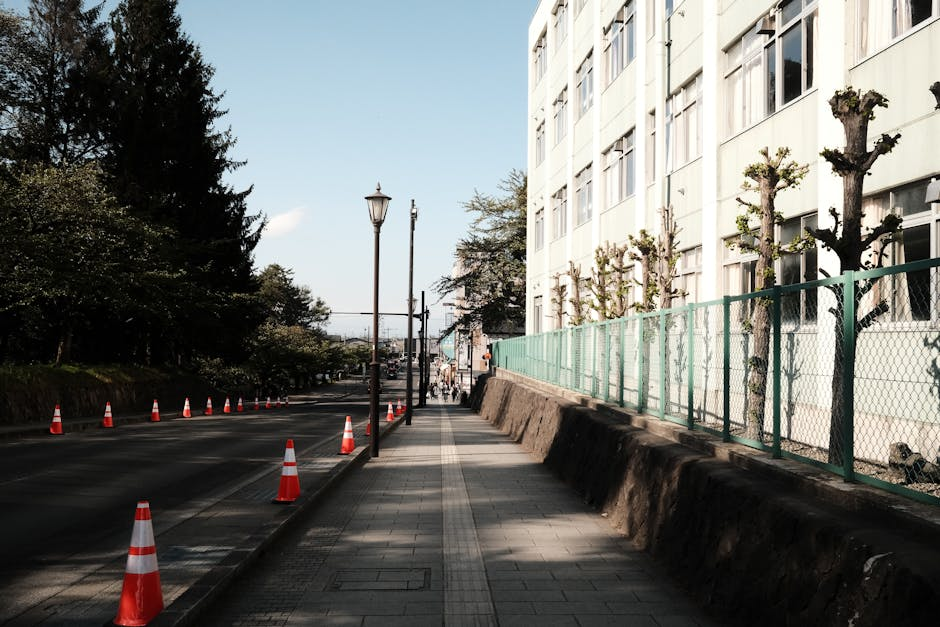traffic_cone: (113, 500, 165, 626), (271, 438, 301, 504), (337, 415, 356, 455), (49, 404, 64, 435), (101, 401, 114, 428), (150, 399, 161, 422), (182, 397, 192, 418), (204, 396, 213, 416), (386, 402, 395, 421), (395, 398, 404, 416), (223, 397, 232, 414), (365, 417, 372, 436), (237, 397, 244, 412), (253, 397, 260, 410), (265, 397, 272, 409), (275, 396, 282, 408), (283, 397, 289, 407)
